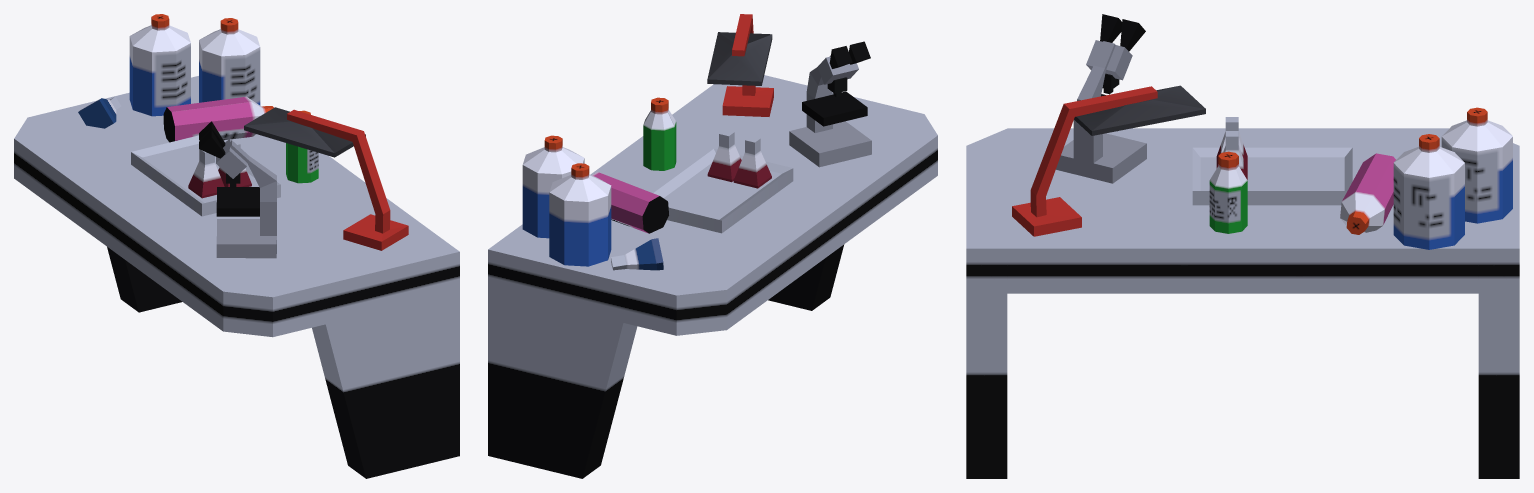
Rendered from TableScience2.fbx.
3 renders of one model, left to right at view 1: azimuth 30°, elevation 25°; view 2: azimuth 150°, elevation 25°; view 3: azimuth 270°, elevation 25°, orthographic. The views are drawn at different scales.
Parts seen in each view (by area): view 1: Куб.157; view 2: Куб.157; view 3: Куб.157.
Boxes of the visible parts, box(x1,y1,x2,y2) form: Куб.157: box(14, 14, 459, 478); Куб.157: box(488, 14, 937, 478); Куб.157: box(966, 14, 1519, 478).
Size of the model in its own units: 104 by 144 by 200.
